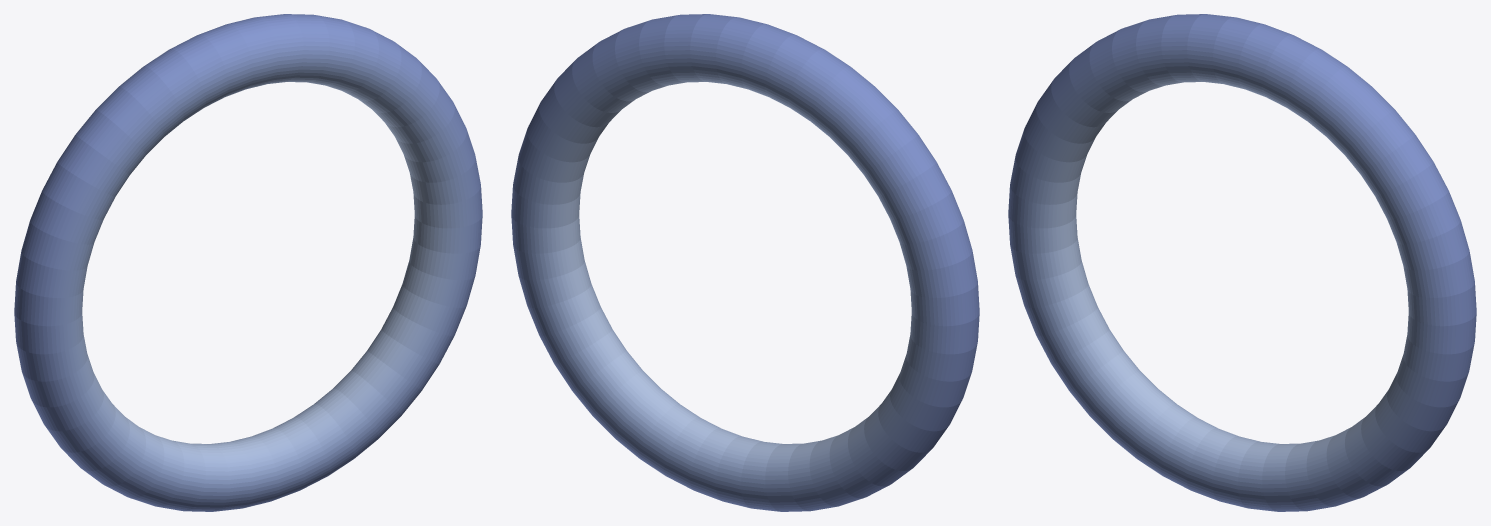
3 views of the same model, side by side, from view 1: azimuth 30°, elevation 25°; view 2: azimuth 150°, elevation 25°; view 3: azimuth 330°, elevation 25° (orthographic).
Parts seen in each view (by area): view 1: world; view 2: world; view 3: world.
Boxes of the visible parts, x1,y1,x2,y2 form: world: (14, 14, 482, 511); world: (511, 14, 979, 511); world: (1008, 14, 1476, 511).
Bounding box in the file's own units: 26 × 25.95 × 3.33.
